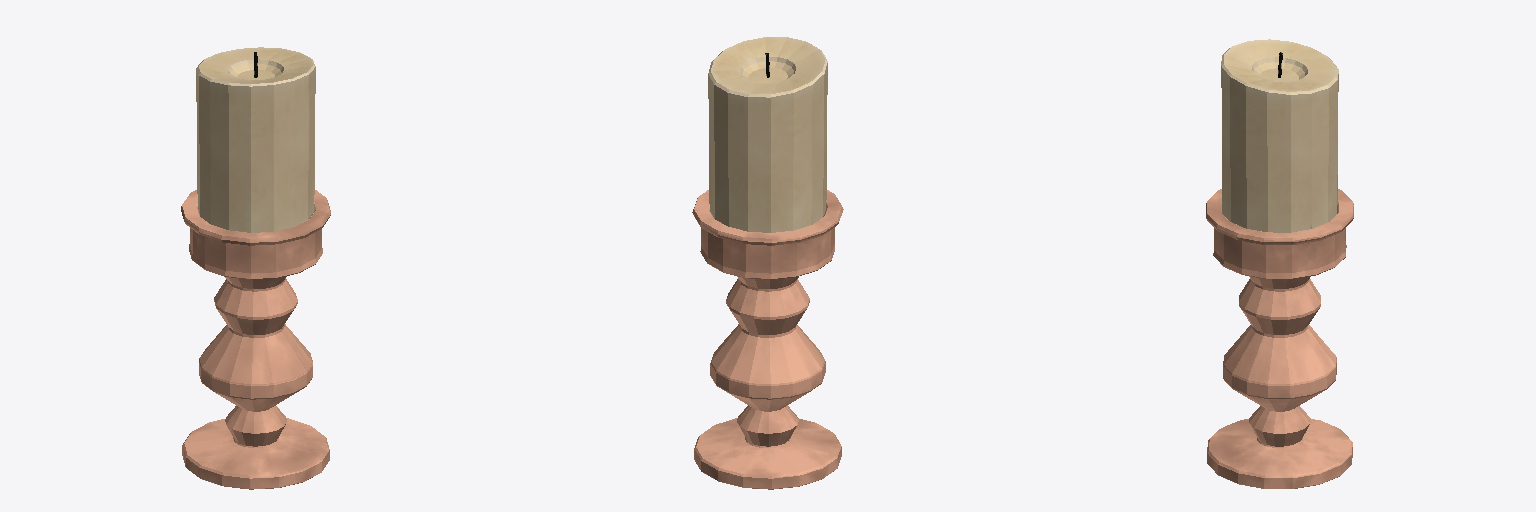
3 renders of one model, left to right at view 1: azimuth 30°, elevation 25°; view 2: azimuth 150°, elevation 25°; view 3: azimuth 270°, elevation 25°, orthographic.
Visible parts, largest first — view 1: candle_01; view 2: candle_01; view 3: candle_01.
Boxes of the visible parts, <box> form: candle_01: <box>181,47,330,489</box>; candle_01: <box>692,37,843,489</box>; candle_01: <box>1206,39,1353,488</box>.
Bounding box in the file's own units: 0.062 × 0.1864 × 0.062.
1 materials, 1 textured.